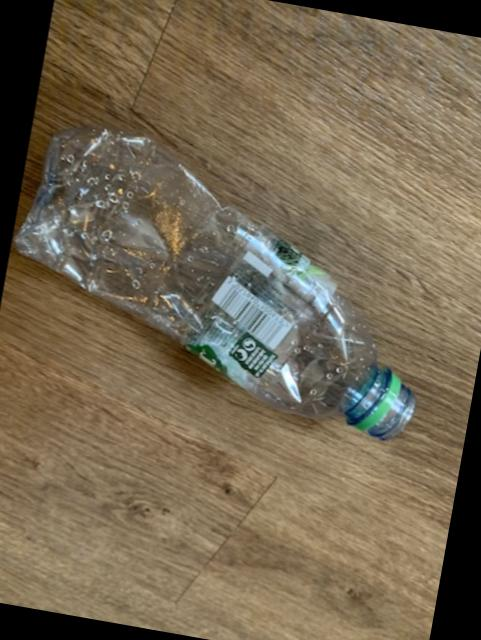plastic: (12, 130, 412, 441)
